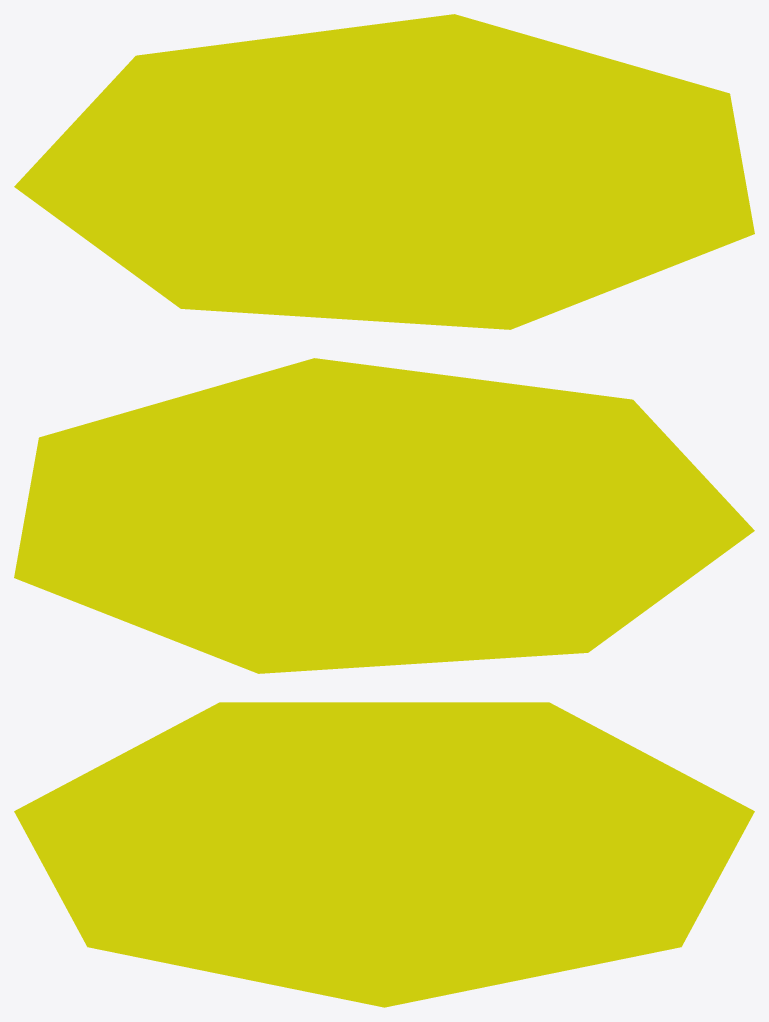
Rendered from flower_bud_A.fbx.
The picture shows the model from 3 angles, top to bottom: view 1: azimuth 30°, elevation 25°; view 2: azimuth 150°, elevation 25°; view 3: azimuth 270°, elevation 25°; orthographic projection.
Visible parts, largest first — view 1: flower_bud_A; view 2: flower_bud_A; view 3: flower_bud_A.
Part boxes in pixels (x1,y1,x2,y2): flower_bud_A: [14, 14, 754, 329]; flower_bud_A: [14, 358, 754, 673]; flower_bud_A: [14, 702, 754, 1007].
Size of the model in its own units: 7.47 by 0 by 7.67.
